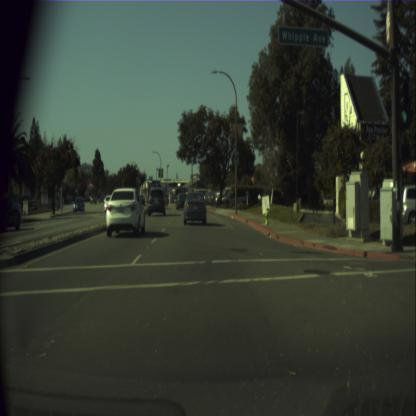Green: (398, 80, 409, 128)
